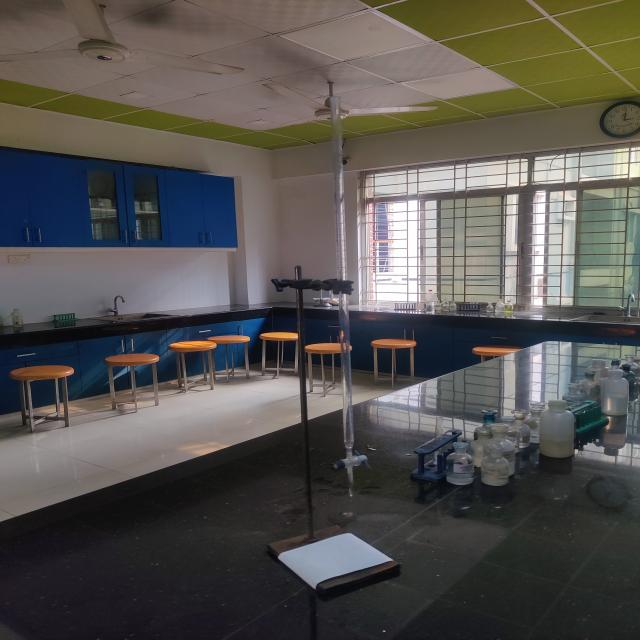Burette_Stands: (241, 93, 410, 613)
